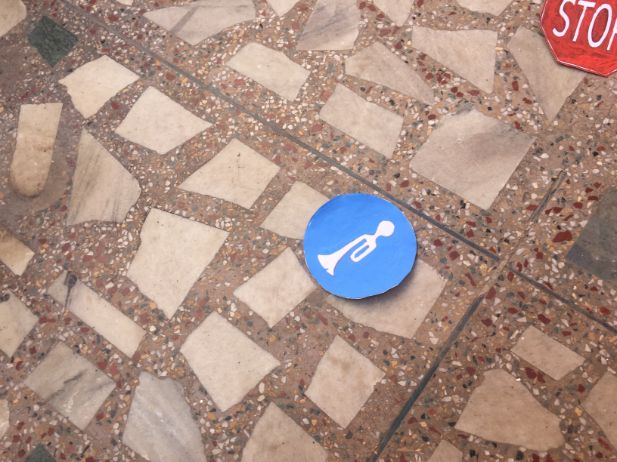blow-horn: (306, 192, 415, 296)
stop: (540, 1, 617, 78)
